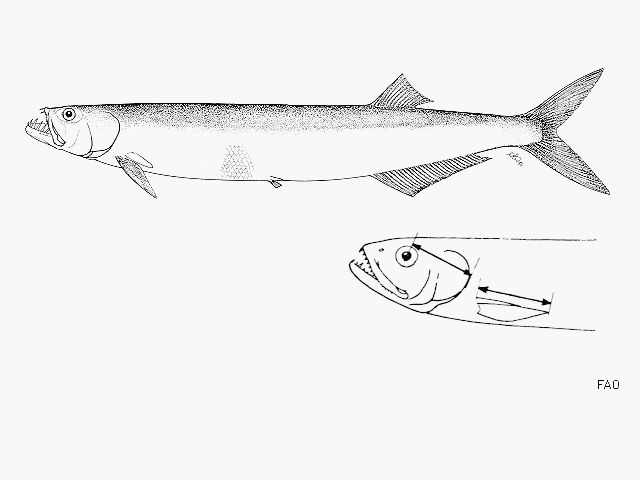fish: (24, 66, 613, 200)
